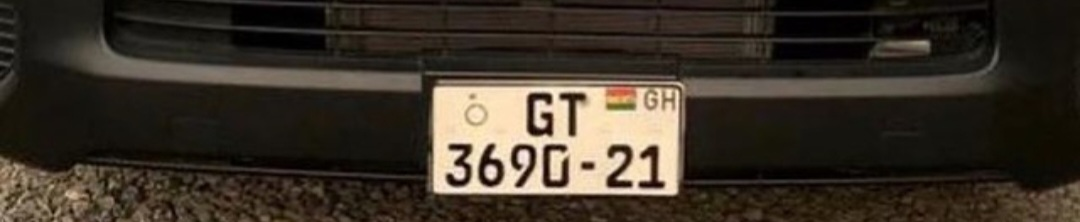number_ plates: (423, 71, 686, 198)
